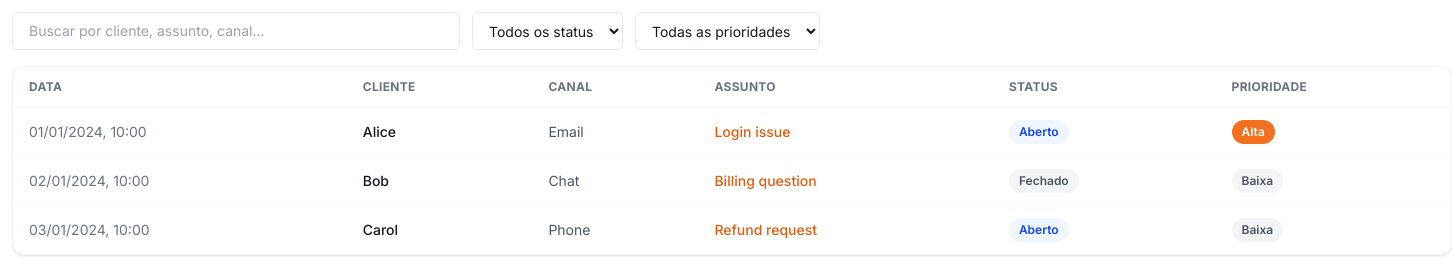
Test case: TicketsTable › filters rows by priority
This screenshot has width=1452, height=273.
Select "Alta" in the dropdown named "prioridade". click: (728, 31)
box: x1=635 y1=12 x2=820 y2=50
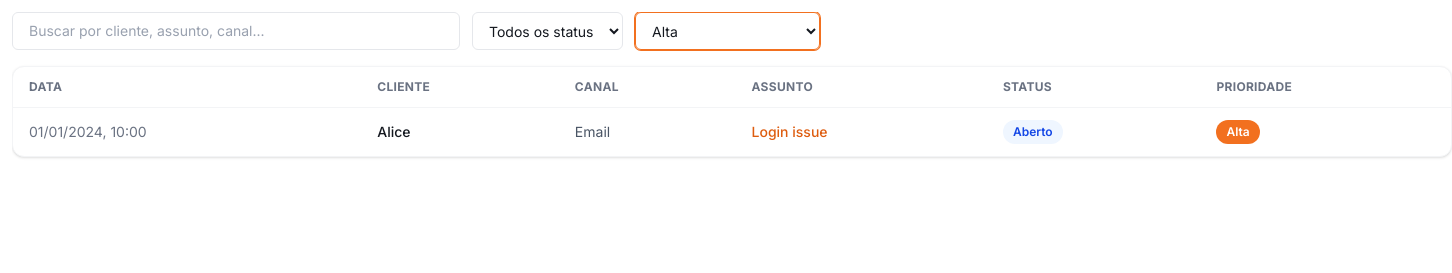
Expected: the text "Alice" is shown, x1=361 y1=108 x2=559 y2=156
Expected: the text "Bob" is gone
Expected: the text "Carol" is gone
